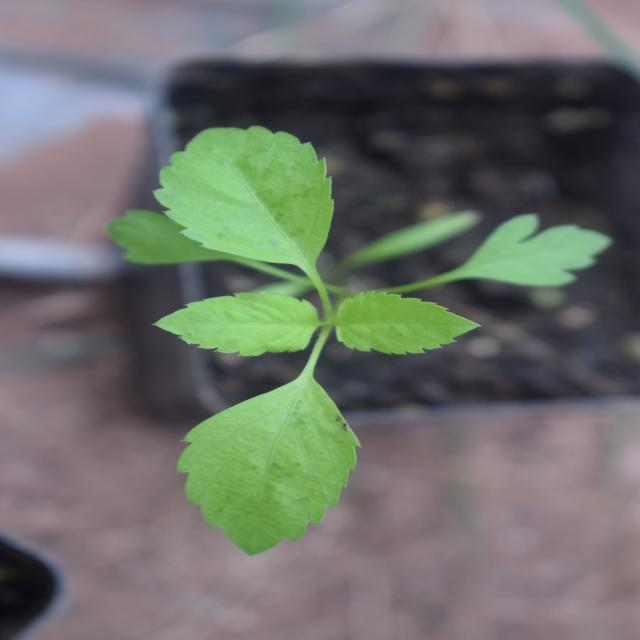Bidens pilosa: (96, 70, 551, 534)
